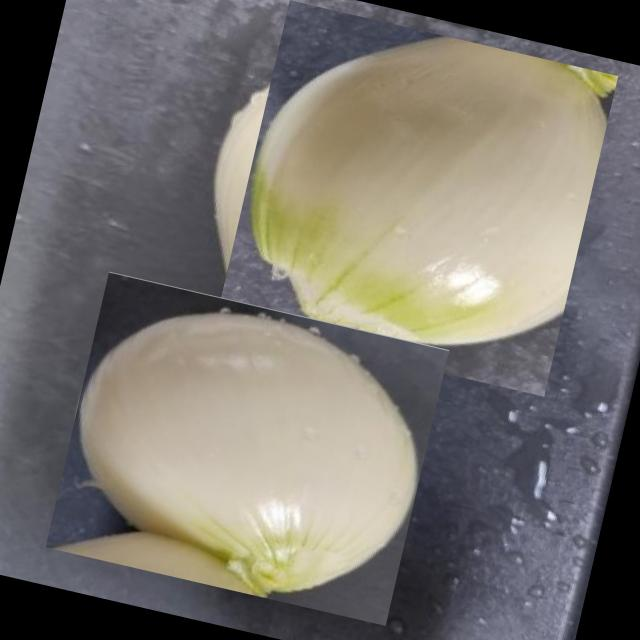Onion: (215, 0, 619, 396), (44, 272, 450, 626)
